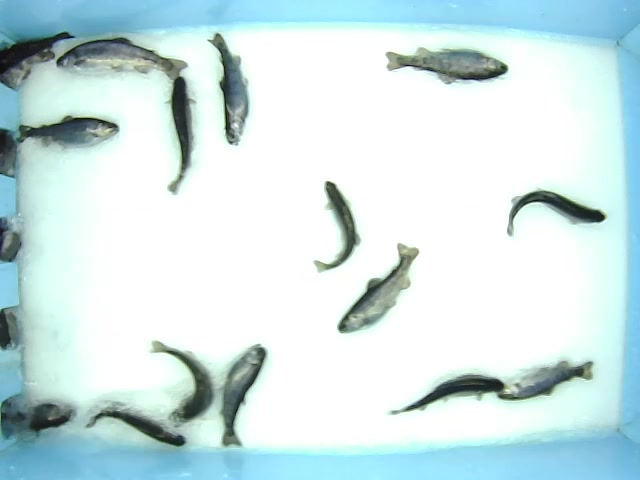fish: (334, 239, 421, 334), (147, 337, 215, 429), (53, 33, 188, 77), (204, 29, 250, 146), (505, 186, 606, 239), (219, 340, 268, 448), (386, 371, 506, 415), (384, 46, 507, 85), (312, 180, 364, 272), (496, 357, 594, 401), (163, 76, 199, 194), (85, 406, 187, 447), (12, 111, 119, 149)
